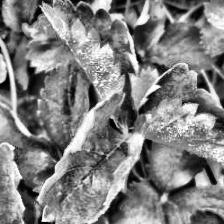Powdery Mildew Leaf: (36, 91, 145, 224), (38, 0, 140, 134), (130, 63, 224, 182)
